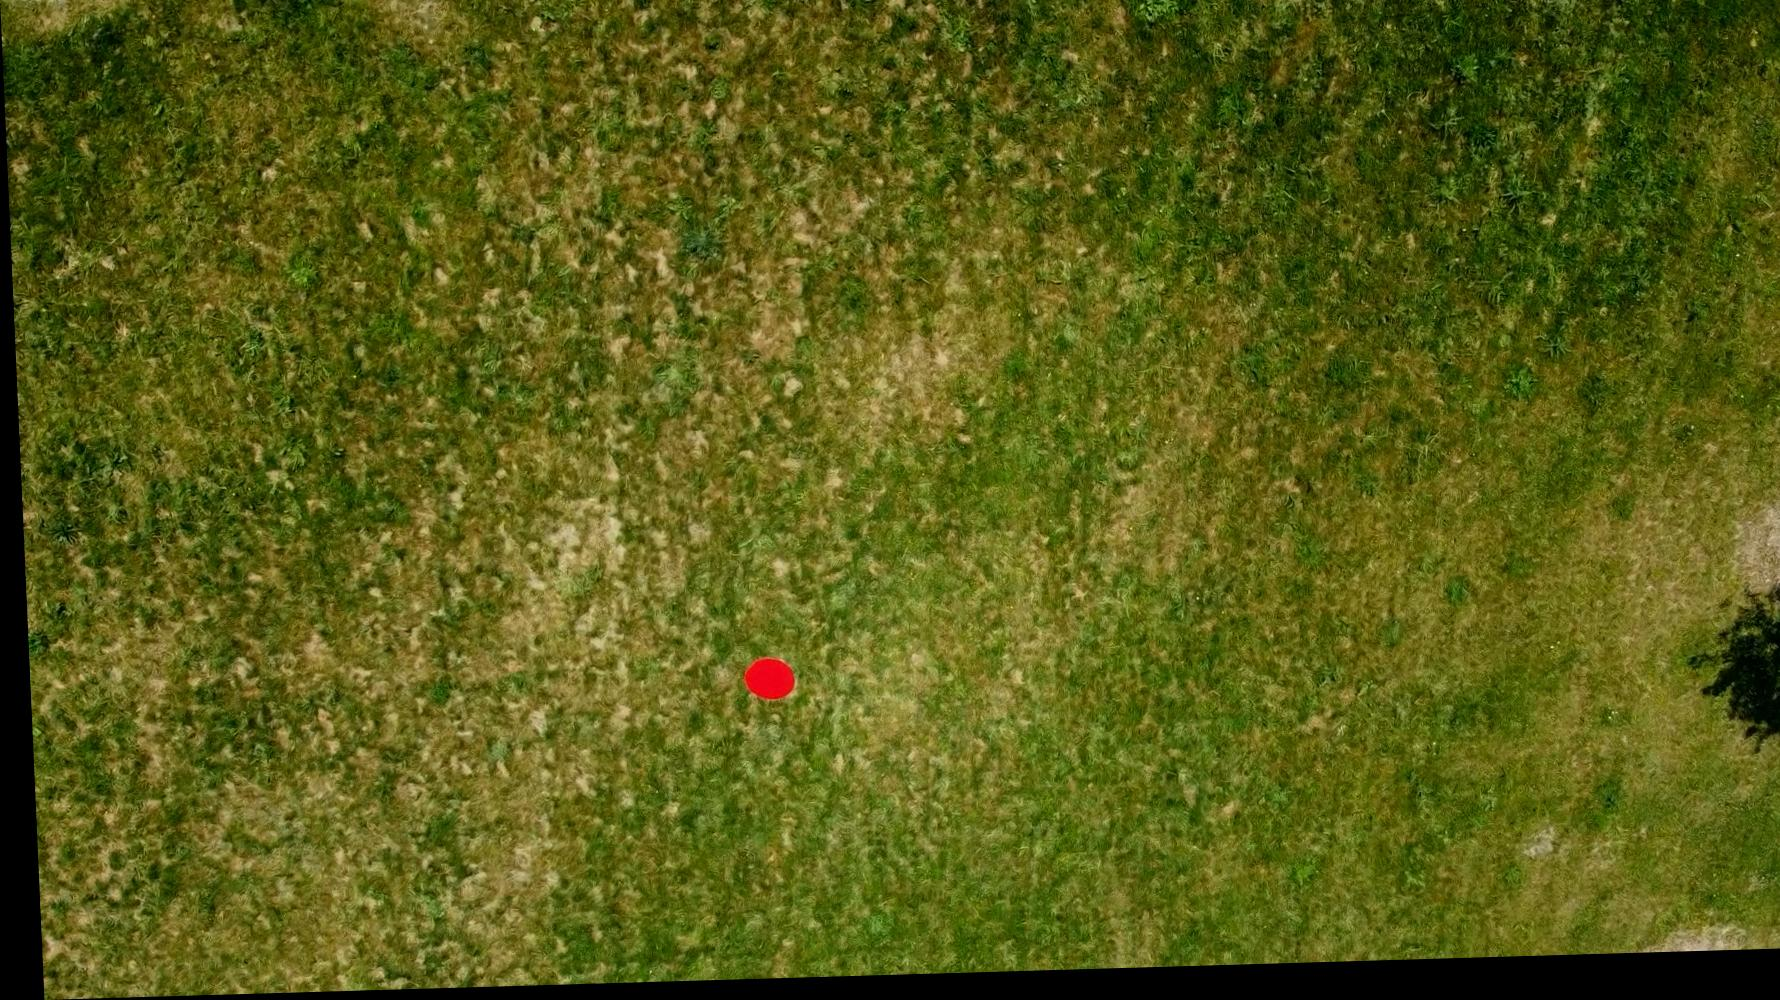Red: (734, 659, 793, 708)
